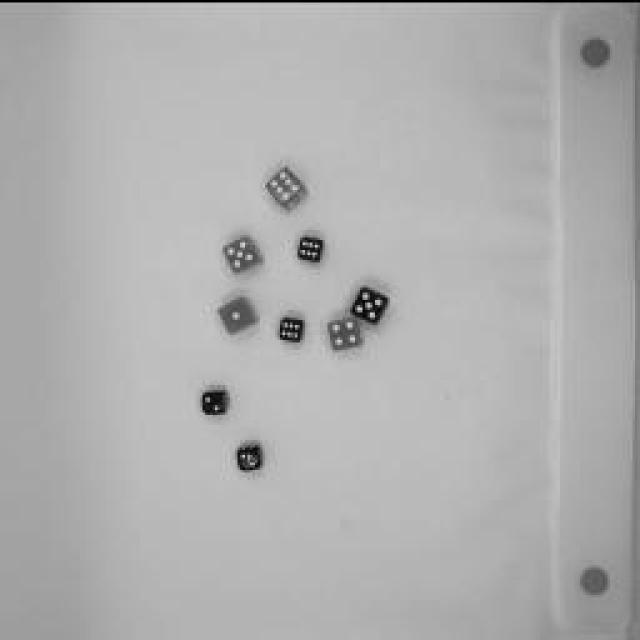dice_1: (215, 290, 265, 342)
dice_2: (193, 381, 235, 421), (229, 439, 266, 476)
dice_4: (322, 310, 368, 352)
dice_5: (219, 230, 266, 280), (346, 280, 394, 325)
dice_6: (260, 158, 315, 214), (271, 306, 311, 349), (291, 228, 331, 270)
